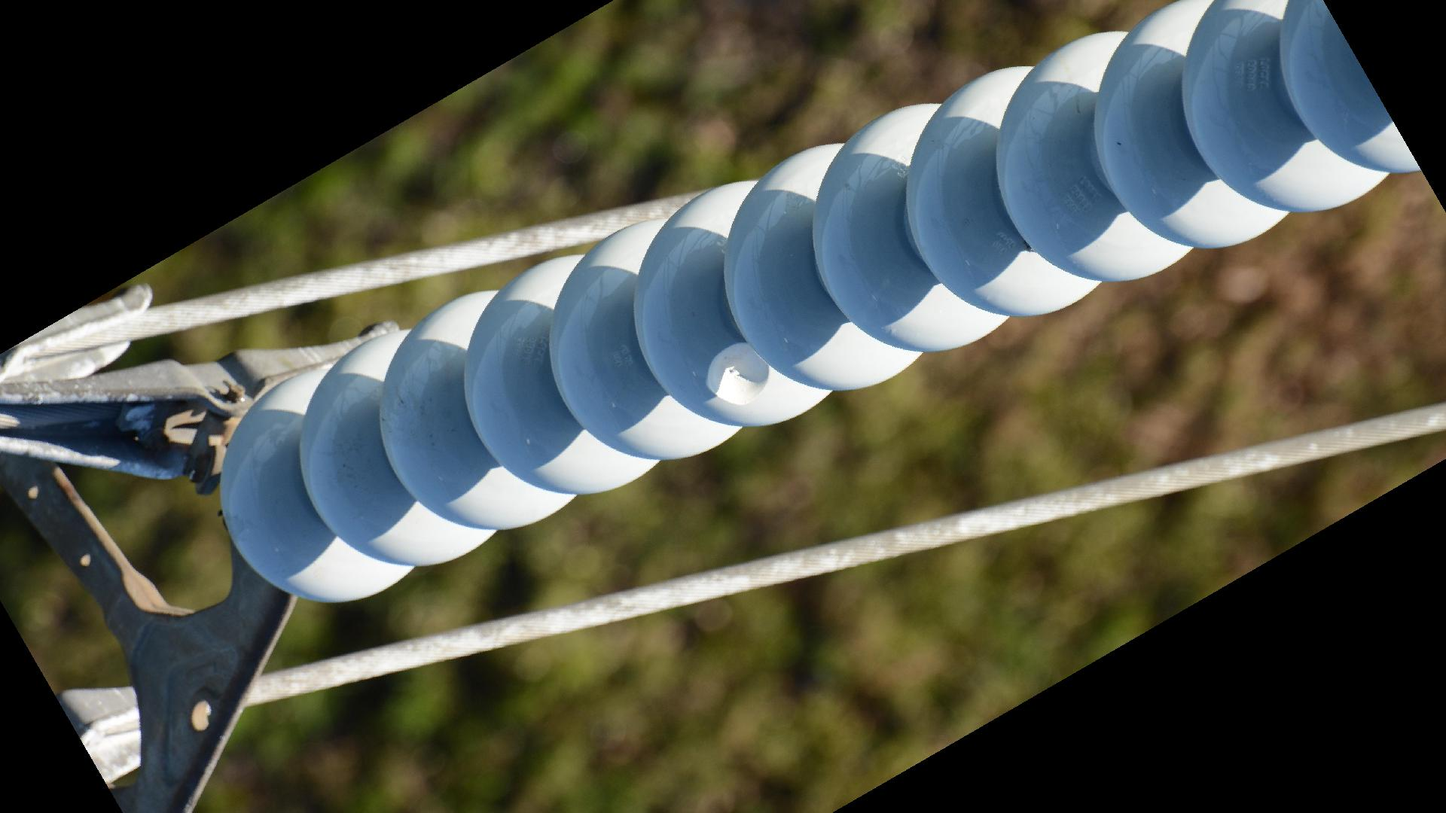insulator: (209, 1, 1417, 613)
insulator_breakage: (699, 336, 777, 407)
